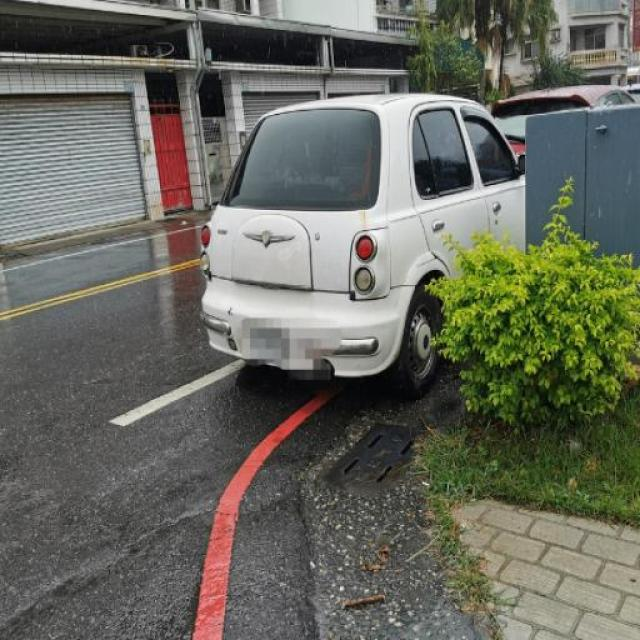illegalparking: (177, 62, 581, 468)
